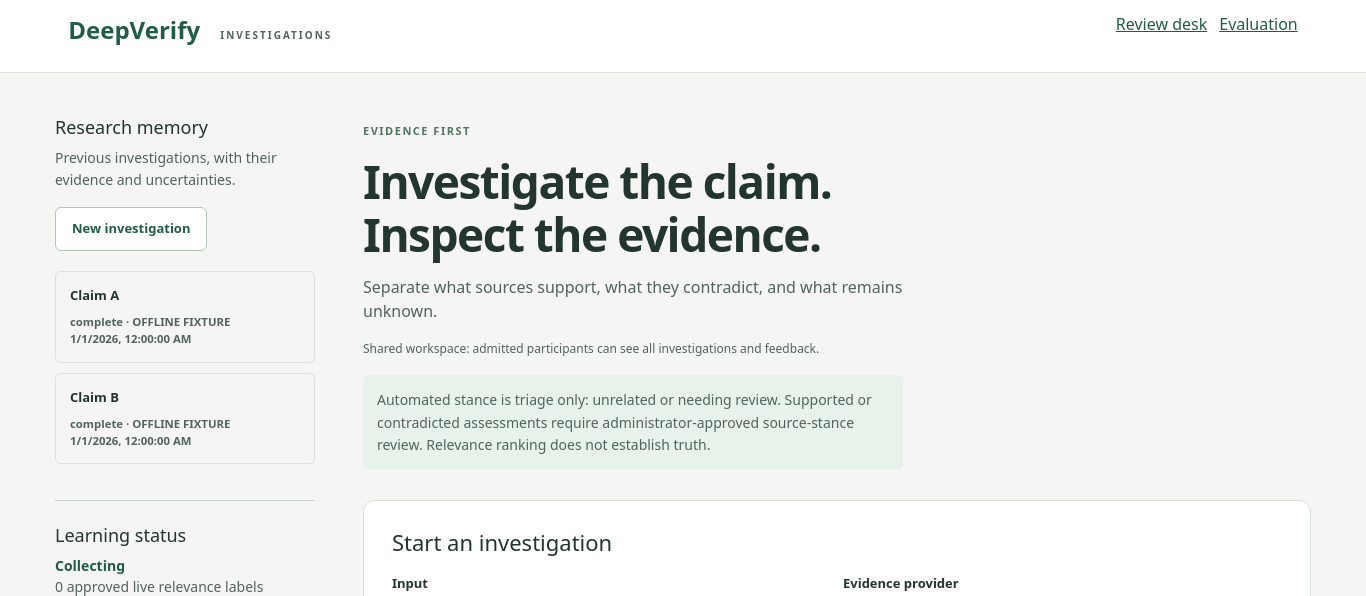
Test: investigation navigation › normal navigation surfaces errors and permits a later selection
What coordinates should you click on to do the following:
click the button "Claim A complete · OFFLINE FIXTURE1/1/2026, 12:00:00 AM"
I would click on:
 (185, 317)
Its box is [55,271,315,362].
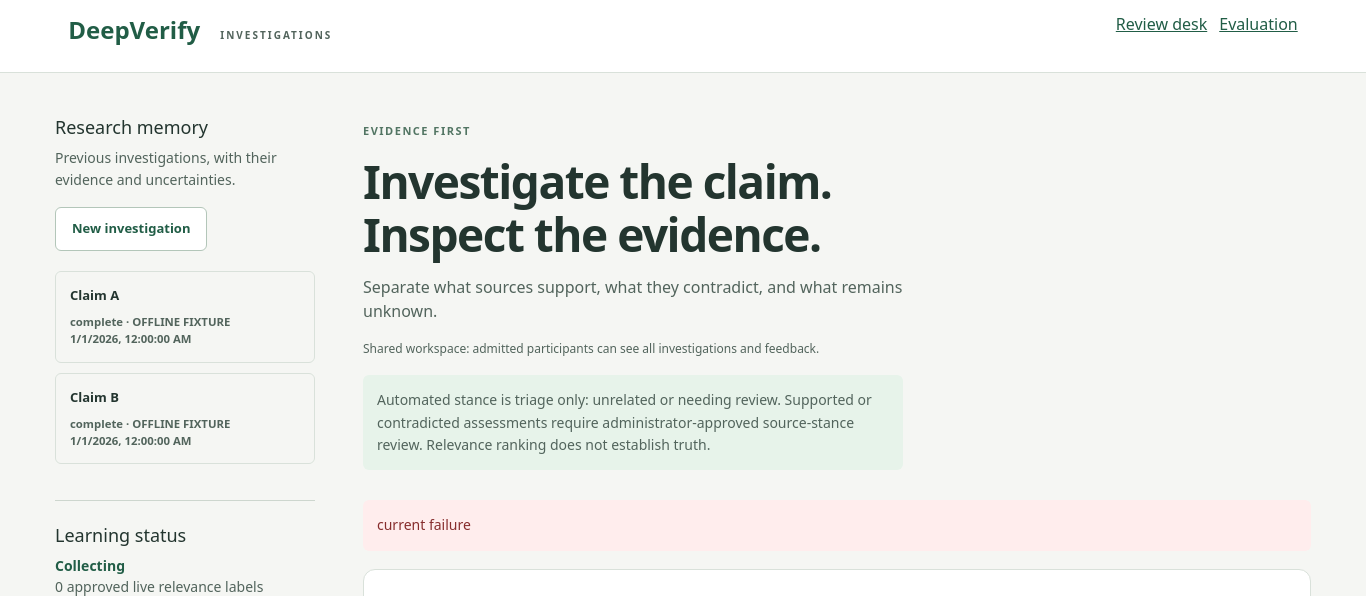
Expected: the message reads "current failure", [377,515,471,534]
What coordinates should you click on to do the following:
click the button "Claim B complete · OFFLINE FIXTURE1/1/2026, 12:00:00 AM"
I would click on:
 (185, 418)
Its box is [55,372,315,464].
(page scrolled)
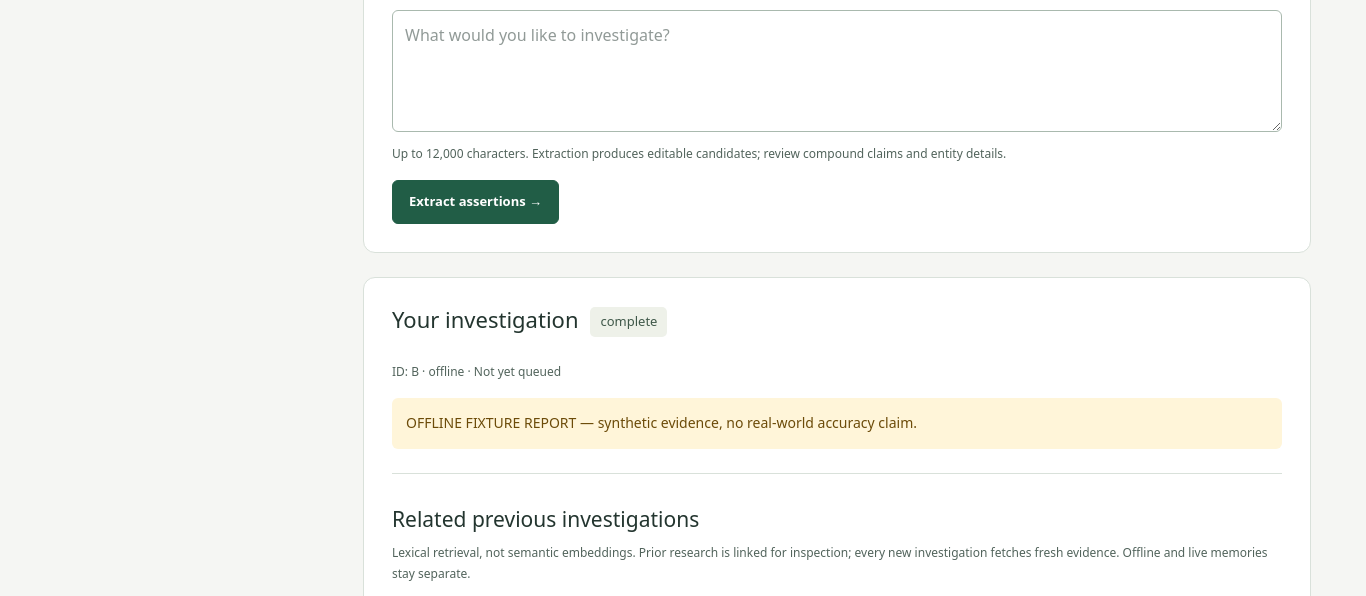
Expected: the text "ID: B · offline · Not yet queued" is shown, [392,363,561,380]
Expected: the message "current failure" is gone
